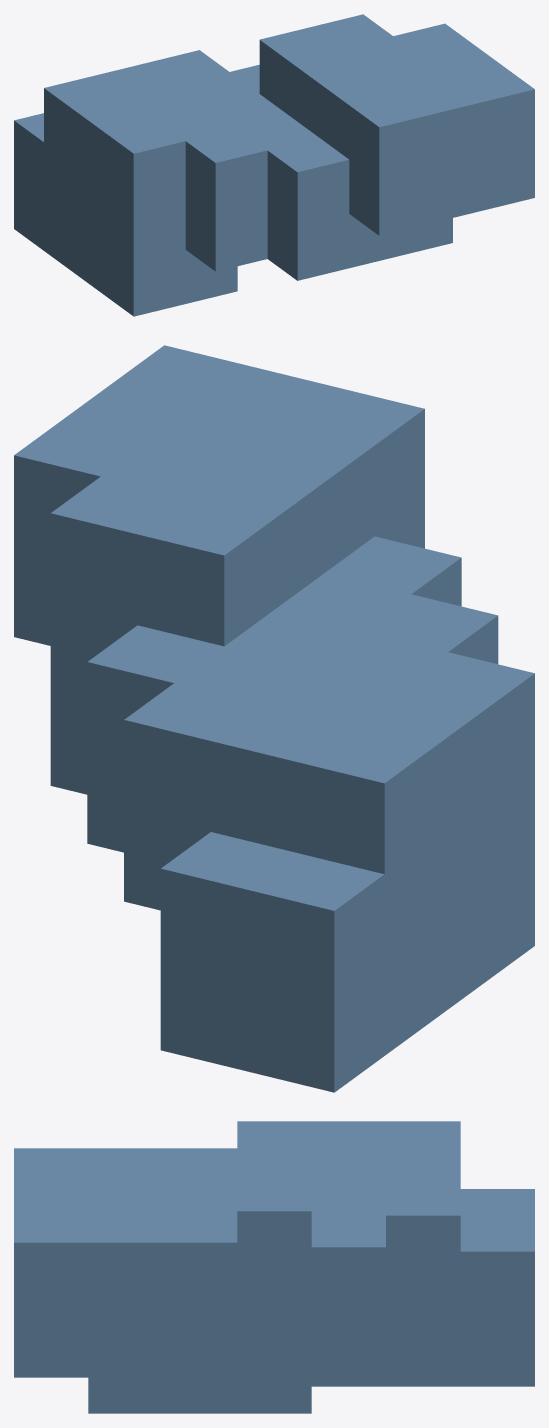
The model's file is dolphin__fin_r.glb.
3 renders of one model, top to bottom at view 1: azimuth 30°, elevation 25°; view 2: azimuth 150°, elevation 25°; view 3: azimuth 270°, elevation 25°, orthographic. The views are drawn at different scales.
Visible parts, largest first — view 1: dolphin__fin_r; view 2: dolphin__fin_r; view 3: dolphin__fin_r.
Part boxes in pixels (<box>): dolphin__fin_r: <box>14,14,534,316</box>; dolphin__fin_r: <box>14,345,534,1092</box>; dolphin__fin_r: <box>14,1121,534,1413</box>.
Bounding box in the file's own units: 0.6 × 0.4 × 0.7.
Materials: 1 (1 with a texture image).
